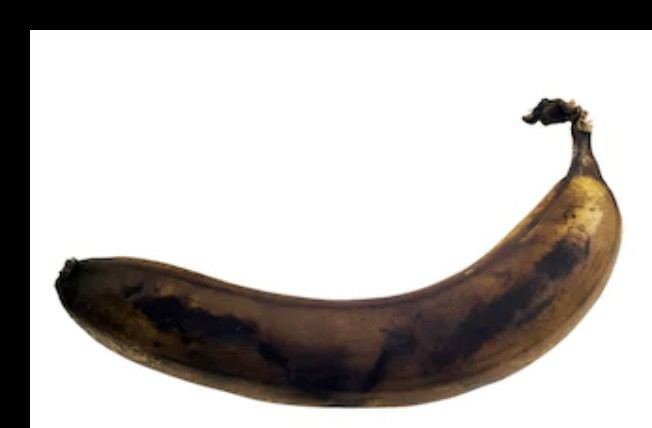rotten_banana: (52, 121, 625, 407)
